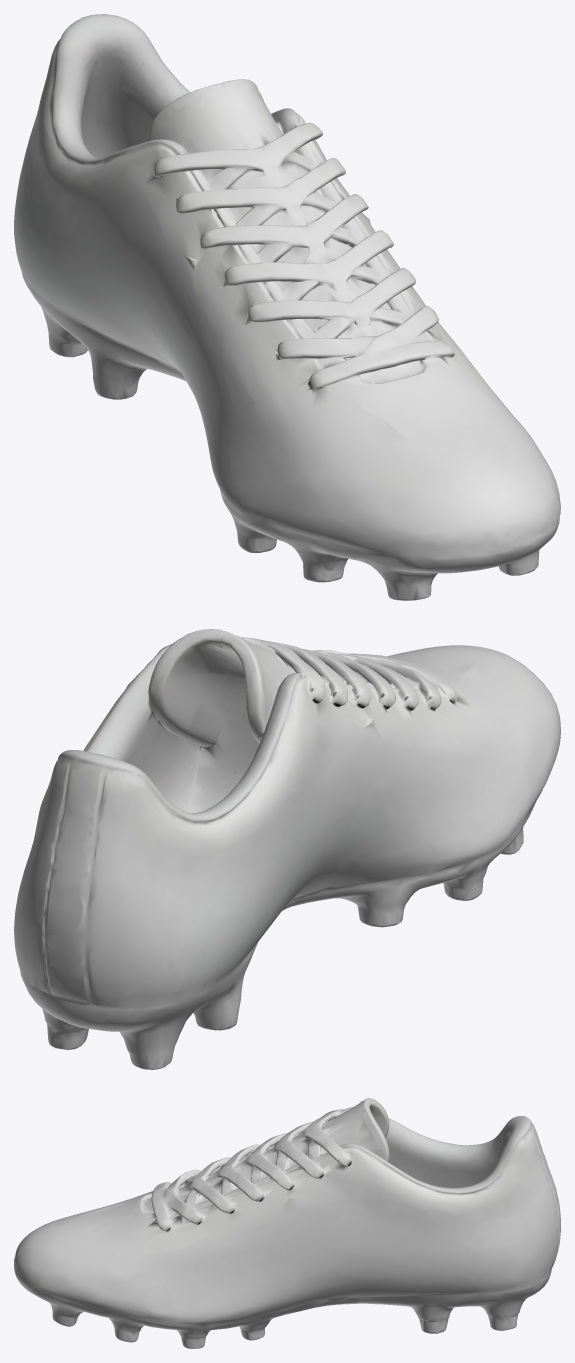
Rendered from boot-starter-hf.glb.
3 renders of one model, top to bottom at view 1: azimuth 30°, elevation 25°; view 2: azimuth 150°, elevation 25°; view 3: azimuth 270°, elevation 25°, orthographic. The views are drawn at different scales.
Visible parts, largest first — view 1: tripo_node_09e3b14e-85aa-4fda-8166-1ba66bbfa913; view 2: tripo_node_09e3b14e-85aa-4fda-8166-1ba66bbfa913; view 3: tripo_node_09e3b14e-85aa-4fda-8166-1ba66bbfa913.
Boxes of the visible parts, left/top/right/bottom form: tripo_node_09e3b14e-85aa-4fda-8166-1ba66bbfa913: left=14, top=14, right=560, bottom=600; tripo_node_09e3b14e-85aa-4fda-8166-1ba66bbfa913: left=14, top=629, right=560, bottom=1069; tripo_node_09e3b14e-85aa-4fda-8166-1ba66bbfa913: left=14, top=1098, right=560, bottom=1348.
Size of the model in its own units: 0.3487 by 0.4236 by 1.
Materials: 1 (1 with a texture image).
